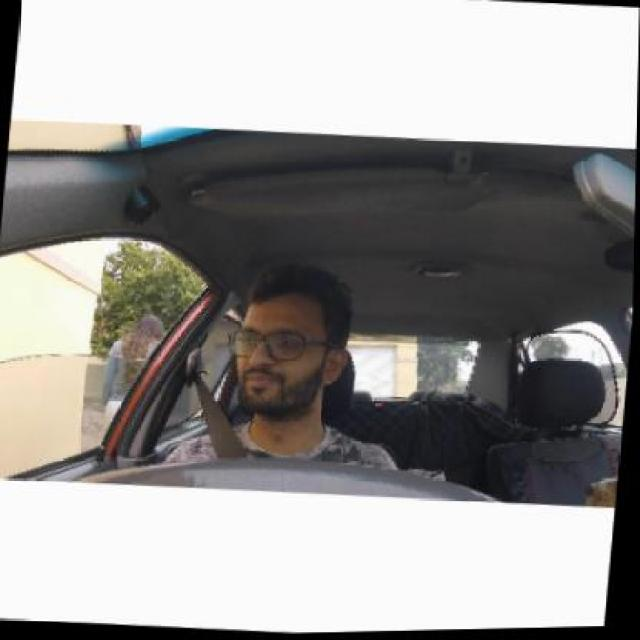person: (234, 279, 343, 412)
